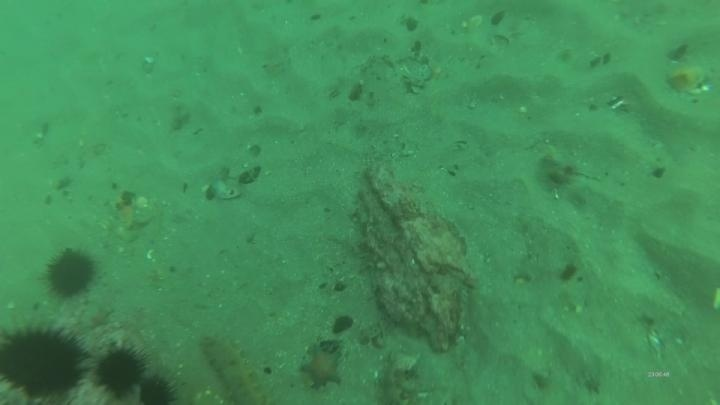echinus: (0, 321, 90, 402), (91, 342, 150, 401), (41, 246, 99, 301), (136, 372, 181, 404)
holothurian: (199, 331, 270, 405)
starfish: (297, 342, 345, 391)
